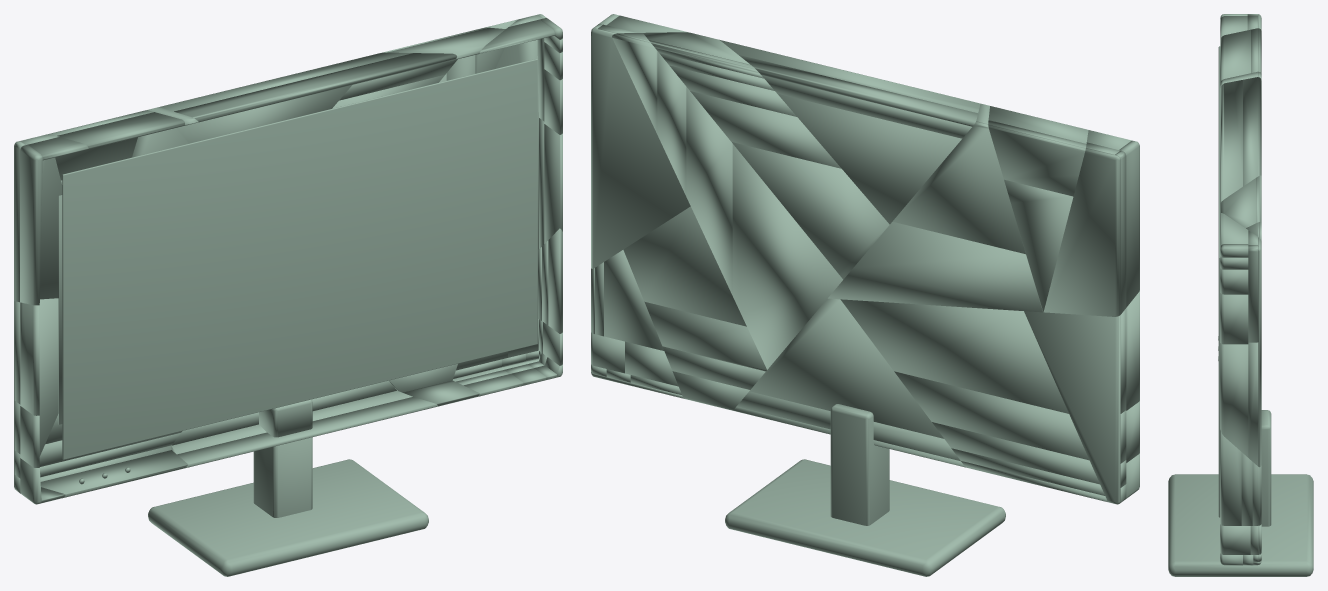
Rendered from collision-hulls.glb.
3 renders of one model, left to right at view 1: azimuth 30°, elevation 25°; view 2: azimuth 150°, elevation 25°; view 3: azimuth 270°, elevation 25°, orthographic. The views are drawn at different scales.
Parts seen in each view (by area): view 1: fragment-012-hull-00, fragment-019-hull-00, fragment-001-hull-00, fragment-017-hull-00, fragment-000-hull-01, fragment-011-hull-01, fragment-001-hull-03, fragment-003-hull-09, fragment-004-hull-00, fragment-011-hull-04, fragment-003-hull-00, fragment-010-hull-00 (+27 smaller); view 2: fragment-019-hull-00, fragment-004-hull-01, fragment-002-hull-09, fragment-007-hull-04, fragment-005-hull-02, fragment-000-hull-00, fragment-003-hull-09, fragment-001-hull-03, fragment-011-hull-04, fragment-006-hull-05, fragment-005-hull-01, fragment-009-hull-01 (+33 smaller); view 3: fragment-019-hull-00, fragment-002-hull-04, fragment-001-hull-00, fragment-001-hull-01, fragment-008-hull-00, fragment-002-hull-03, fragment-012-hull-00, fragment-010-hull-00, fragment-002-hull-08, fragment-017-hull-00, fragment-006-hull-00, fragment-002-hull-06 (+14 smaller).
Boxes of the visible parts, box(x1,y1,x2,y2) form: fragment-012-hull-00: box(62, 59, 537, 459); fragment-019-hull-00: box(148, 459, 428, 576); fragment-001-hull-00: box(174, 53, 456, 122); fragment-017-hull-00: box(253, 437, 312, 517); fragment-000-hull-01: box(177, 397, 437, 468); fragment-011-hull-01: box(20, 144, 42, 305); fragment-001-hull-03: box(176, 85, 351, 143); fragment-003-hull-09: box(14, 298, 58, 487); fragment-004-hull-00: box(40, 450, 188, 498); fragment-011-hull-04: box(14, 134, 62, 300); fragment-003-hull-00: box(20, 302, 39, 415); fragment-010-hull-00: box(57, 112, 184, 148); fragment-019-hull-00: box(725, 459, 1005, 576); fragment-004-hull-01: box(840, 299, 1068, 413); fragment-002-hull-09: box(591, 28, 690, 268); fragment-007-hull-04: box(732, 144, 842, 369); fragment-005-hull-02: box(828, 221, 1042, 312); fragment-000-hull-00: box(749, 298, 943, 438); fragment-003-hull-09: box(1024, 311, 1120, 504); fragment-001-hull-03: box(777, 93, 961, 224); fragment-011-hull-04: box(1043, 148, 1120, 316); fragment-006-hull-05: box(732, 142, 889, 279); fragment-005-hull-01: box(893, 121, 1025, 254); fragment-009-hull-01: box(623, 206, 746, 326); fragment-019-hull-00: box(1168, 474, 1313, 576); fragment-002-hull-04: box(1220, 343, 1248, 457); fragment-001-hull-00: box(1220, 80, 1242, 202); fragment-001-hull-01: box(1243, 77, 1261, 186); fragment-008-hull-00: box(1220, 429, 1241, 525); fragment-002-hull-03: box(1220, 293, 1248, 344); fragment-012-hull-00: box(1218, 46, 1220, 517); fragment-010-hull-00: box(1220, 29, 1250, 82); fragment-002-hull-08: box(1248, 342, 1258, 465); fragment-017-hull-00: box(1261, 410, 1271, 526); fragment-006-hull-00: box(1220, 178, 1256, 228); fragment-002-hull-06: box(1248, 245, 1258, 342).
Size of the model in its own units: 0.46 by 0.367 by 0.12.
